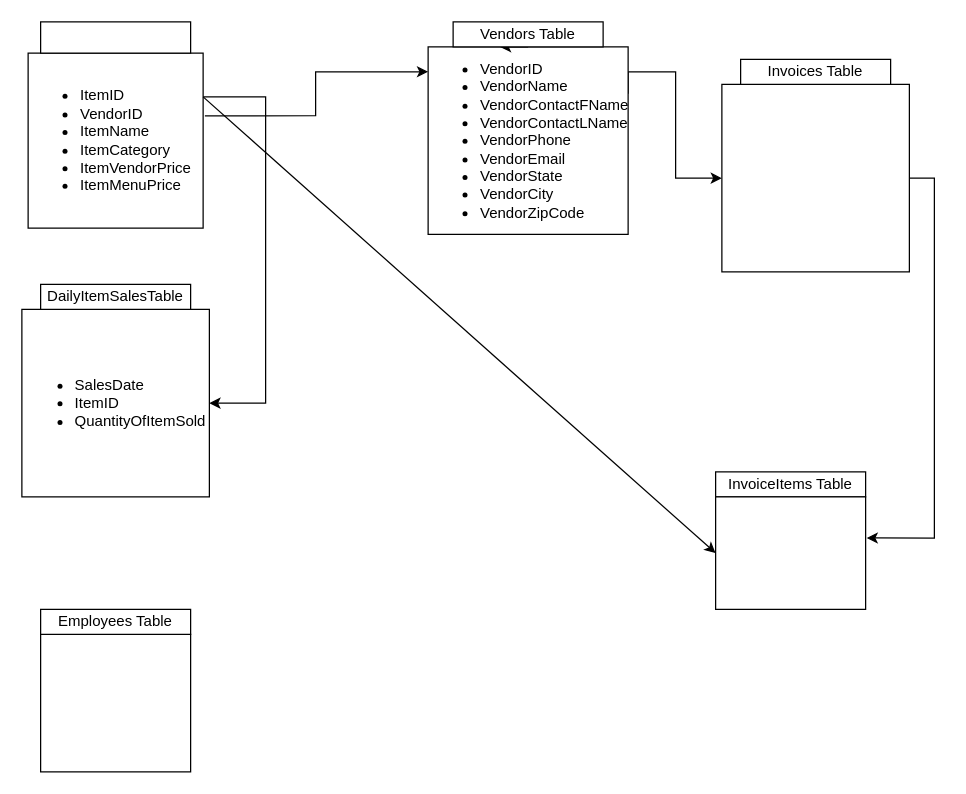
This 966x794 diagram has some shape labels left out. Here are the shapes that lost their labels. From the top down, the box of each, then its label:
(39, 21, 191, 53): Items Table
(721, 83, 909, 272): InvoiceID VendorID InvoiceDate
(714, 496, 866, 609): InvoiceID ItemID ItemQuantity
(39, 633, 191, 772): EmployeeID FirstName LastName Position HourlyPay
